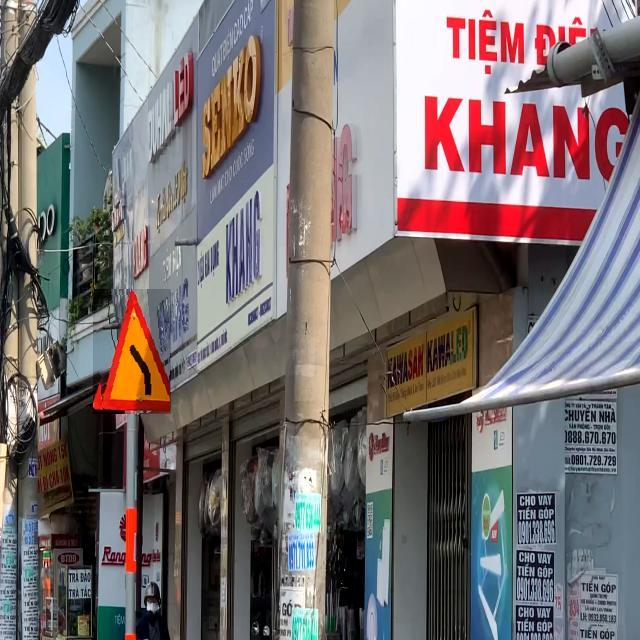W-201a: (94, 289, 172, 414)
